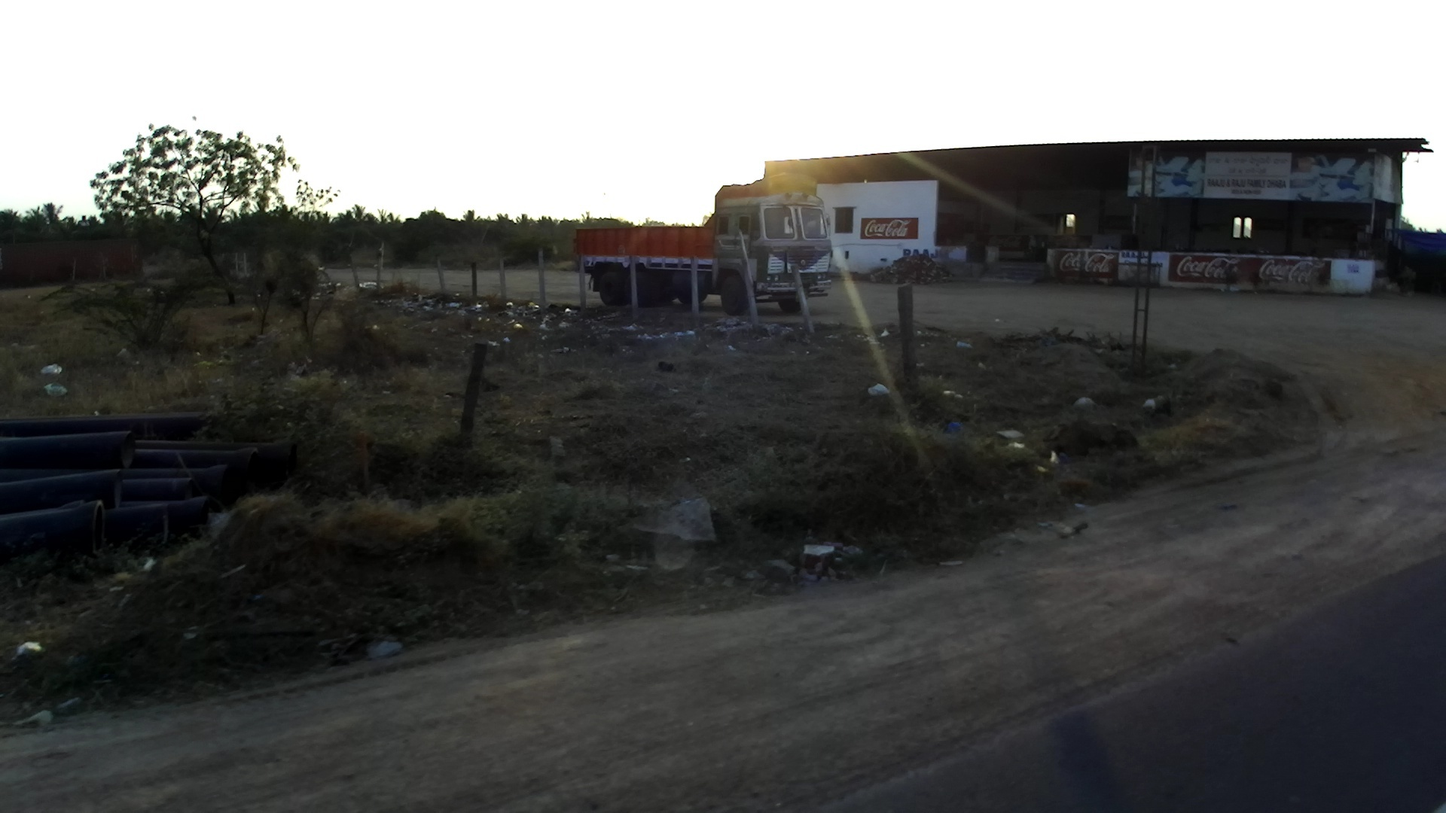truck: (573, 174, 840, 317)
